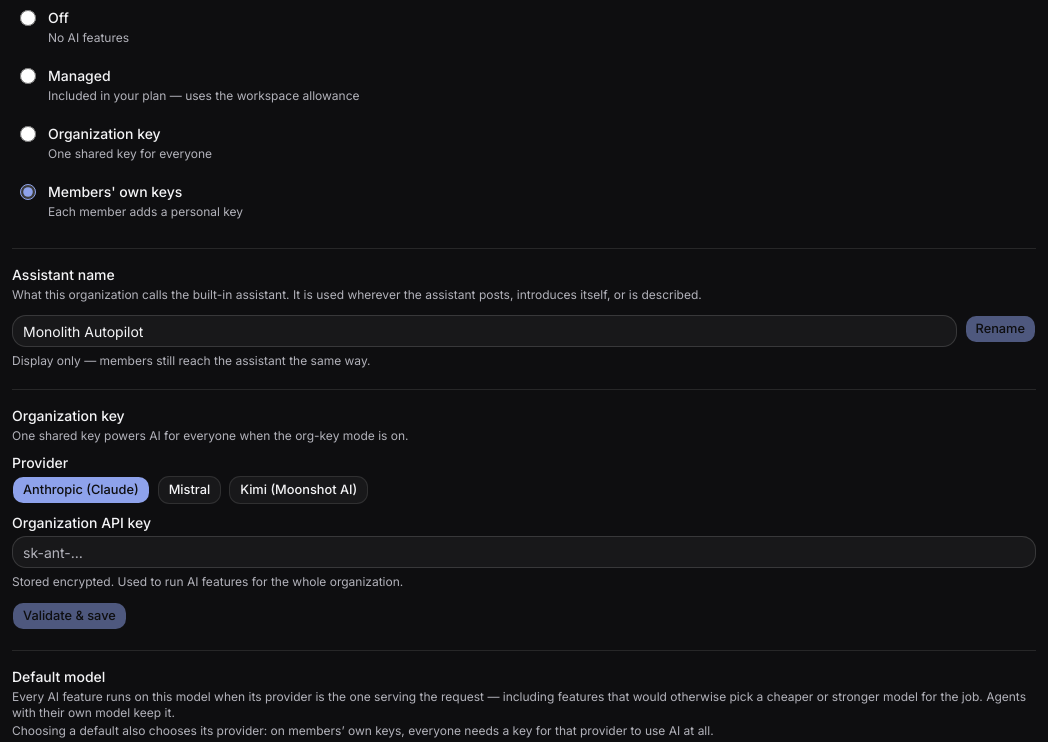
Test: OrgAiSettingsForm › surfaces a failed mode change inline and reverts the selection
Click the radio button labelled "Organization key One shared key for everyone".
click(28, 134)  # box [20,126,36,142]
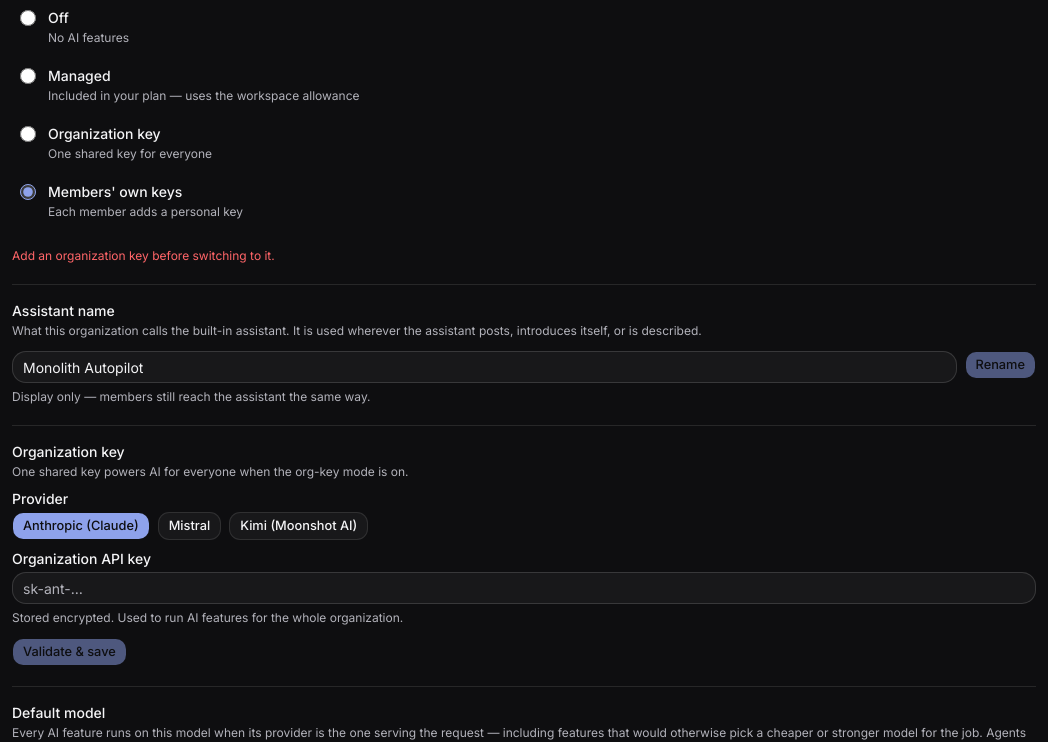
Expected: the radio button labelled "Members' own keys Each member adds a personal key" is checked, [20,184,36,200]
Now the message shows "Add an organization key before switching to it", box [12,248,275,263]
